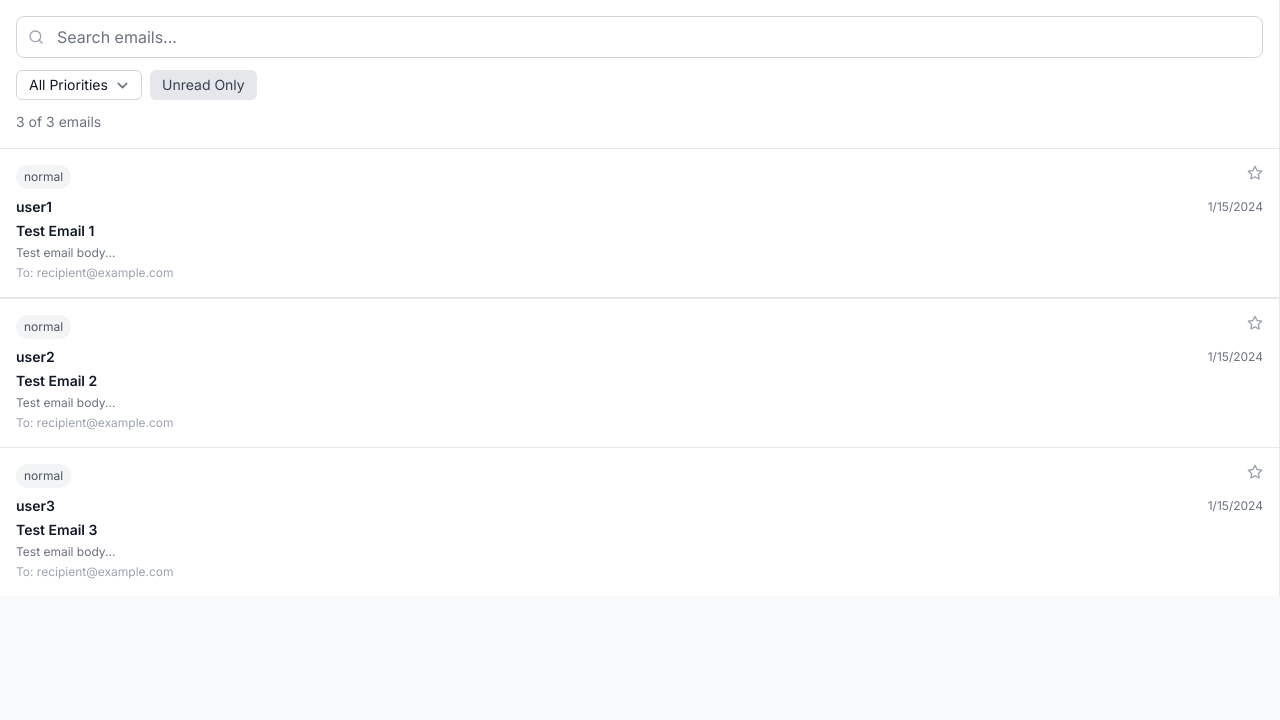
Test case: EmailList › filters emails based on search query
Expected: the heading "Test Email 1" is shown, x1=16 y1=222 x2=94 y2=239
// Find search input and type
Type "Test Email 1" into the field with placeholder "Search emails..." at (640, 37), box x1=16 y1=16 x2=1263 y2=58
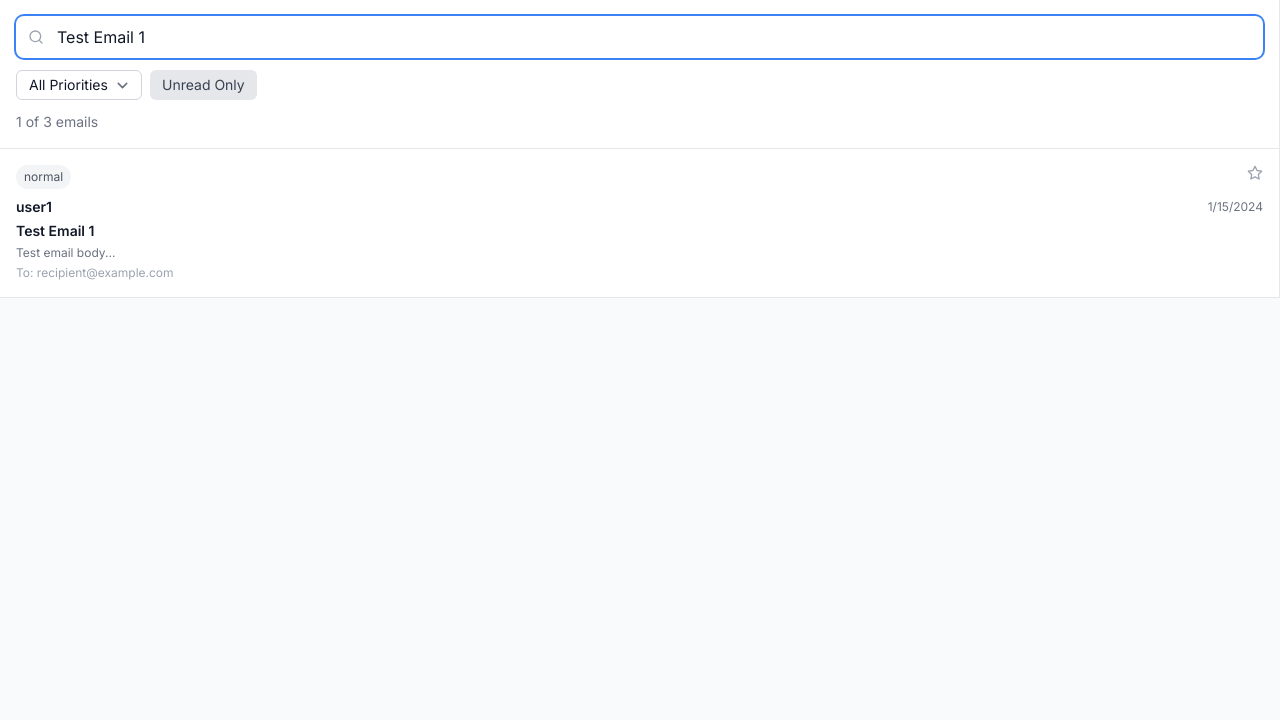
Expected: the heading "Test Email 1" is shown, x1=16 y1=222 x2=94 y2=239
Expected: the heading "Test Email 2" is gone
Expected: the heading "Test Email 3" is gone
